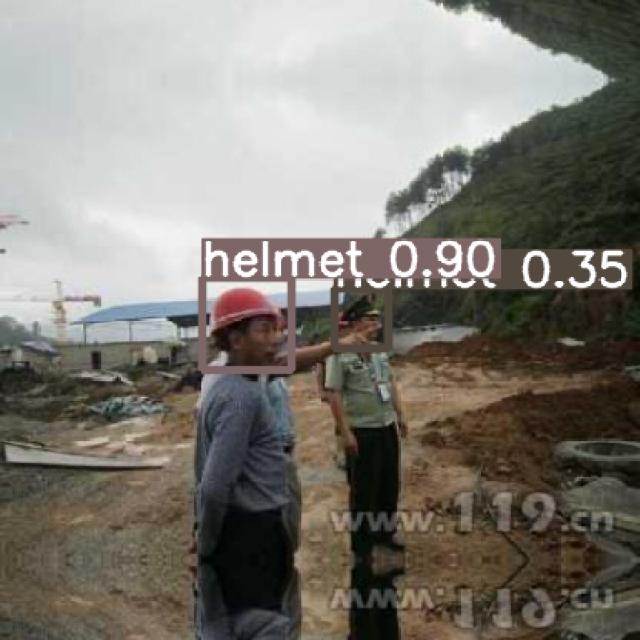helmet: (202, 277, 290, 369), (334, 288, 388, 348)
